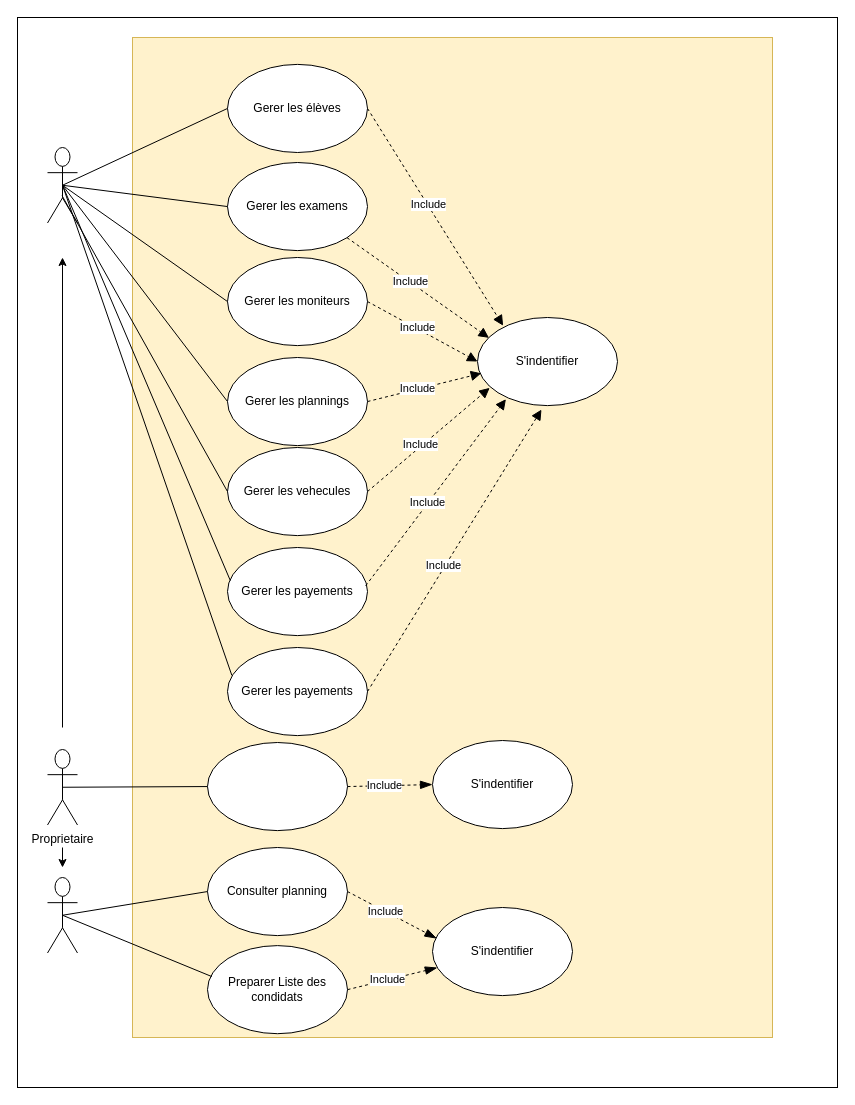
Some shapes in this 855 by 1105 pixel diagram are drawn without their labels. Here are the shapes that lost their labels. From the top down, the centre of each, then its label:
the point at 62,184: Secrétaire
the point at 277,786: Consulter les statistiques
the point at 62,914: Moniteur
